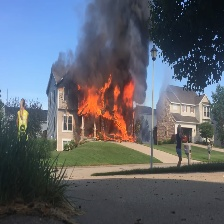fire: (76, 70, 139, 148)
